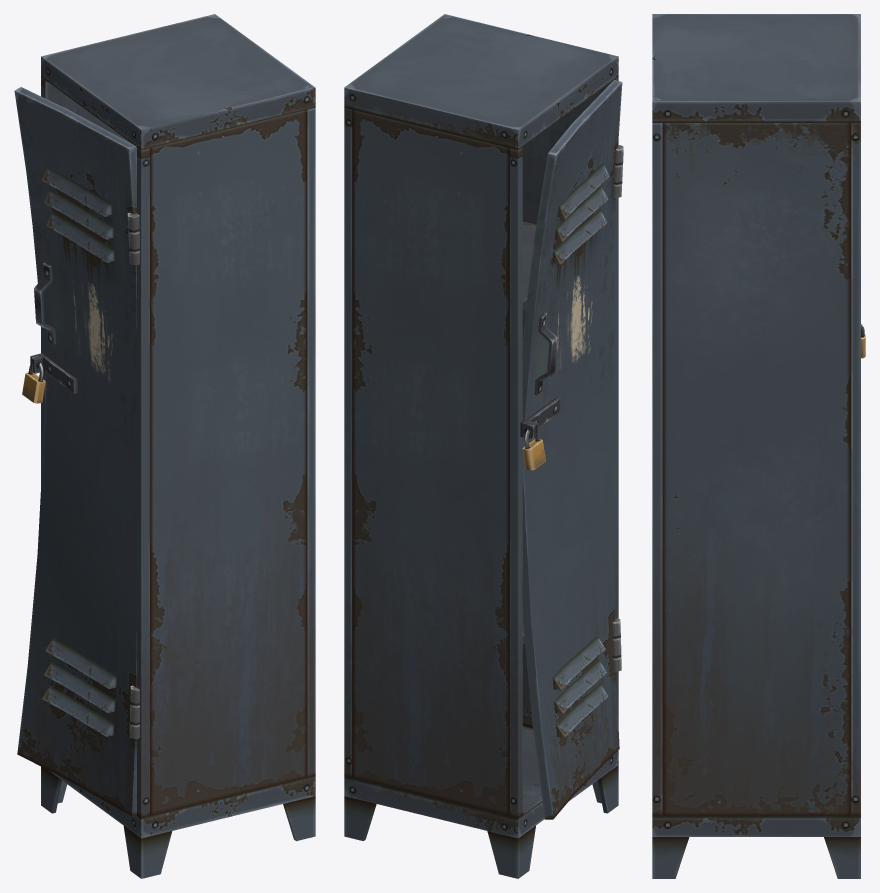
Rendered from locker02_B.FBX.
The picture shows the model from 3 angles, left to right: view 1: azimuth 30°, elevation 25°; view 2: azimuth 150°, elevation 25°; view 3: azimuth 270°, elevation 25°; orthographic projection. The views are drawn at different scales.
Visible parts, largest first — view 1: locker02_B, locker02_B_door01, lock; view 2: locker02_B, locker02_B_door01, lock; view 3: locker02_B.
Boxes of the visible parts, x1=… form: locker02_B: x1=30, y1=14, x2=315, y2=878; locker02_B_door01: x1=14, y1=87, x2=139, y2=815; lock: x1=22, y1=363, x2=45, y2=403; locker02_B: x1=344, y1=14, x2=618, y2=878; locker02_B_door01: x1=522, y1=80, x2=623, y2=819; lock: x1=522, y1=429, x2=545, y2=470; locker02_B: x1=652, y1=14, x2=860, y2=878.
Size of the model in its own units: 53.33 by 185 by 46.
